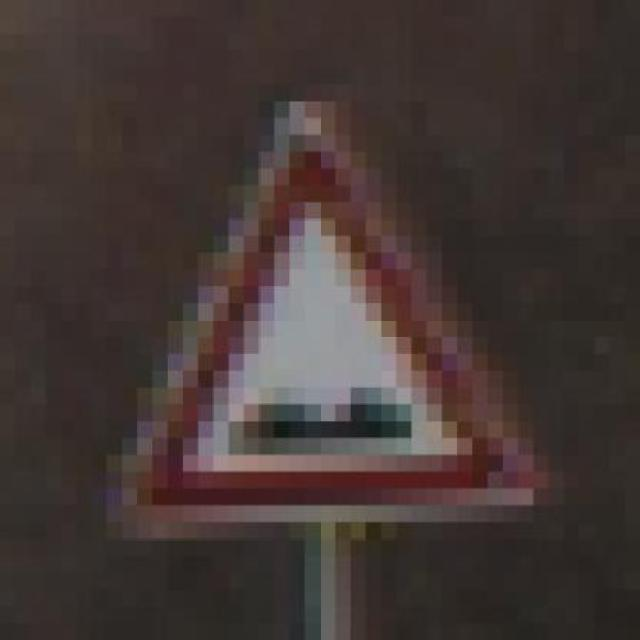Uneven Road: (76, 84, 579, 556)
